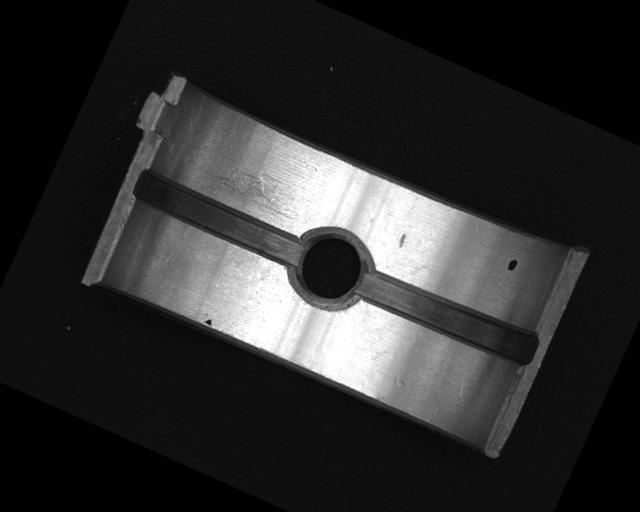blot: (505, 257, 519, 274), (201, 315, 214, 328)
bruise: (395, 230, 409, 250)
gap: (351, 257, 543, 374), (129, 165, 310, 273)
hole: (279, 214, 383, 322)
scratch: (190, 150, 309, 230)
